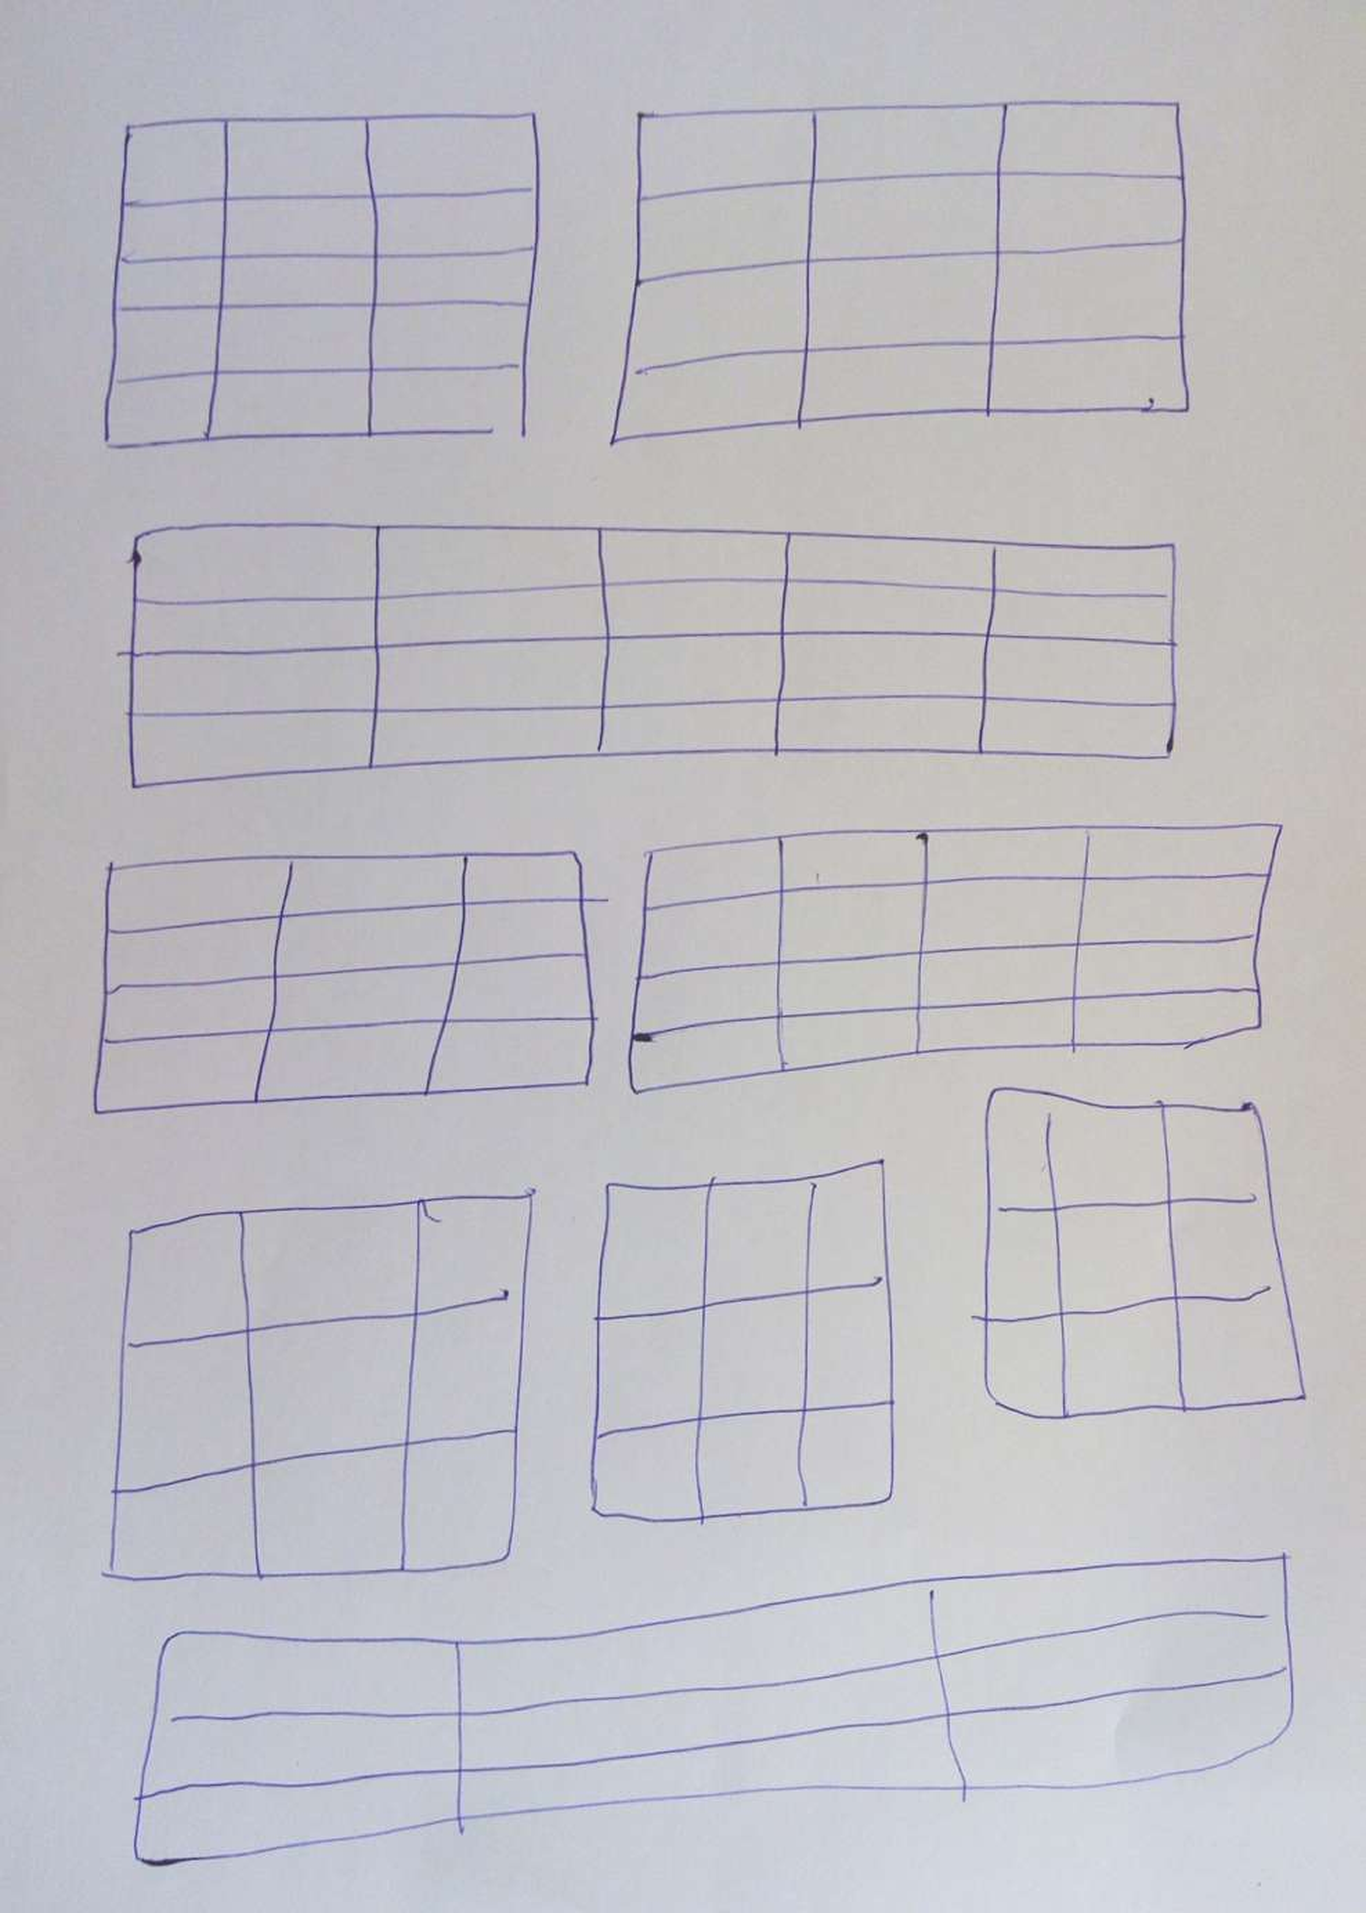Table: (133, 1552, 1299, 1867), (115, 522, 1183, 789), (611, 101, 1189, 448), (628, 823, 1283, 1095), (101, 1183, 537, 1580), (103, 112, 540, 449), (93, 850, 609, 1115), (590, 1159, 894, 1526), (971, 1087, 1305, 1421)
